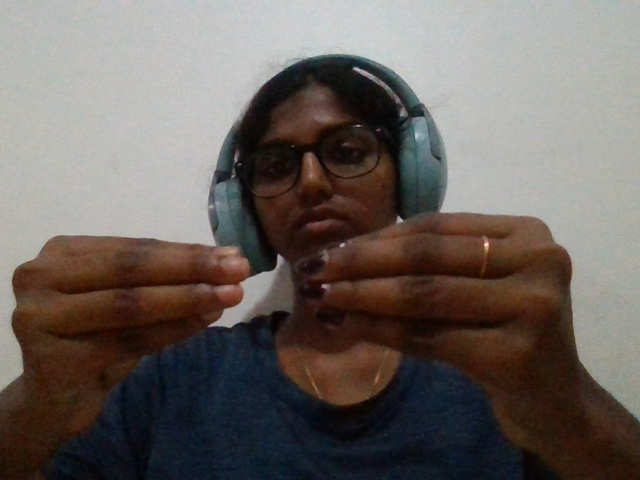More: (8, 194, 603, 460)
